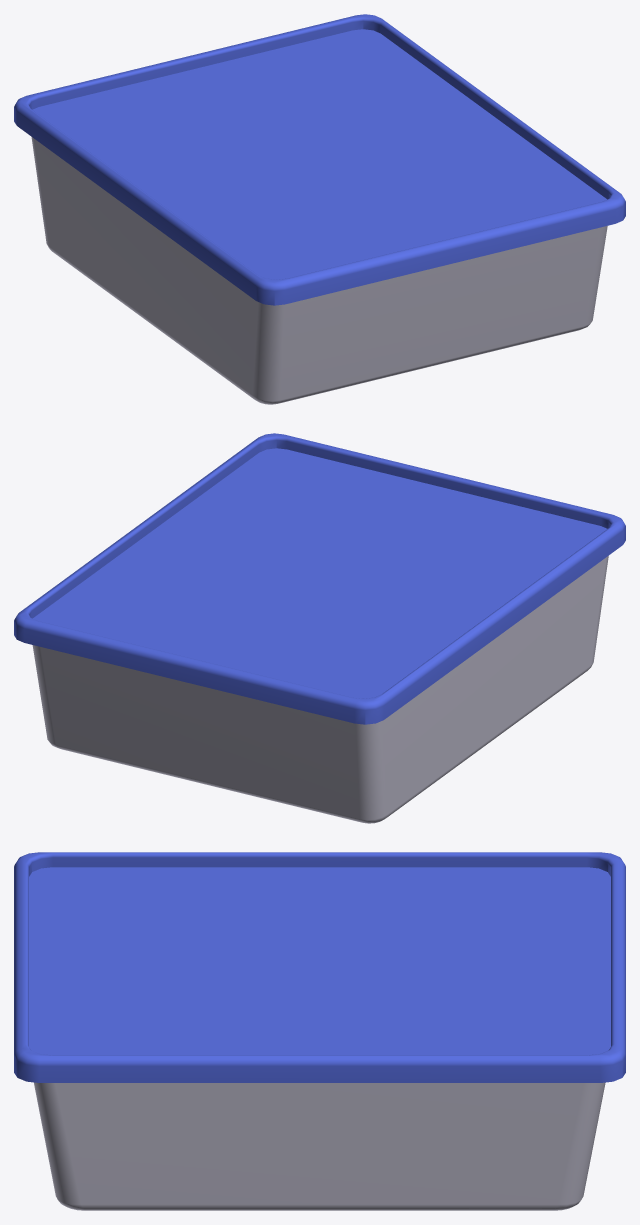
The model's file is SM_Tupperware.fbx.
3 views of the same model, one above another, from view 1: azimuth 30°, elevation 25°; view 2: azimuth 150°, elevation 25°; view 3: azimuth 270°, elevation 25° (orthographic). The views are drawn at different scales.
Visible parts, largest first — view 1: SM_Tupperware; view 2: SM_Tupperware; view 3: SM_Tupperware.
Boxes of the visible parts, x1,y1,x2,y2 form: SM_Tupperware: (14,14,625,404); SM_Tupperware: (14,433,625,823); SM_Tupperware: (14,852,625,1210).
Size of the model in its own units: 1410 by 514 by 1736.
1 material, 1 textured.
